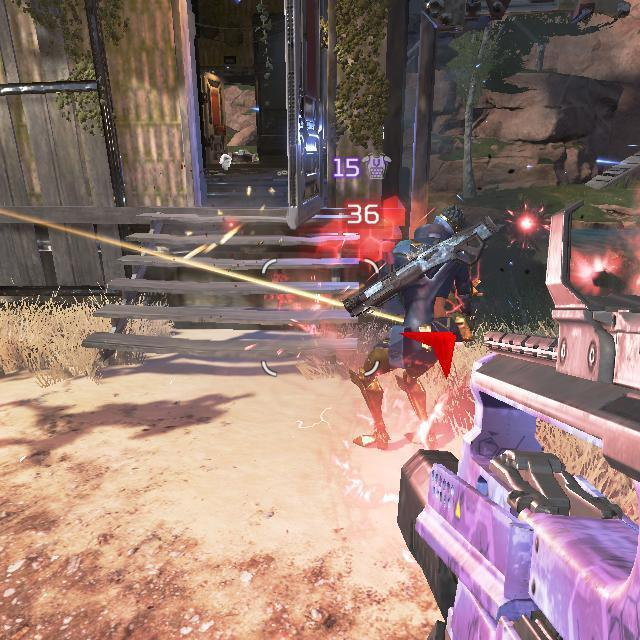avatar: (348, 205, 496, 448)
